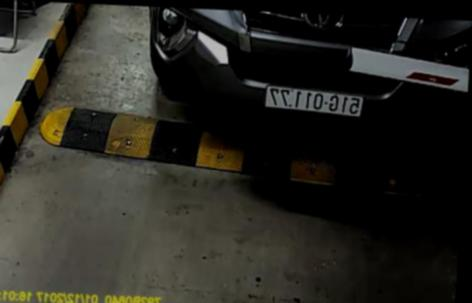License_Plate: (260, 85, 365, 116)
